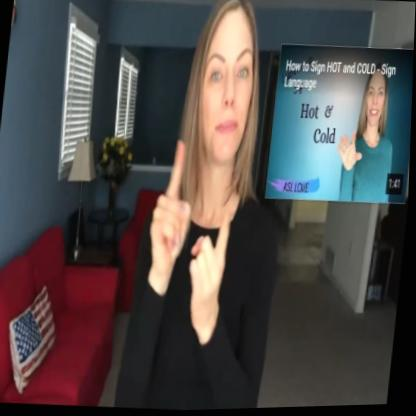NiceToMeetYou: (116, 0, 301, 413)
